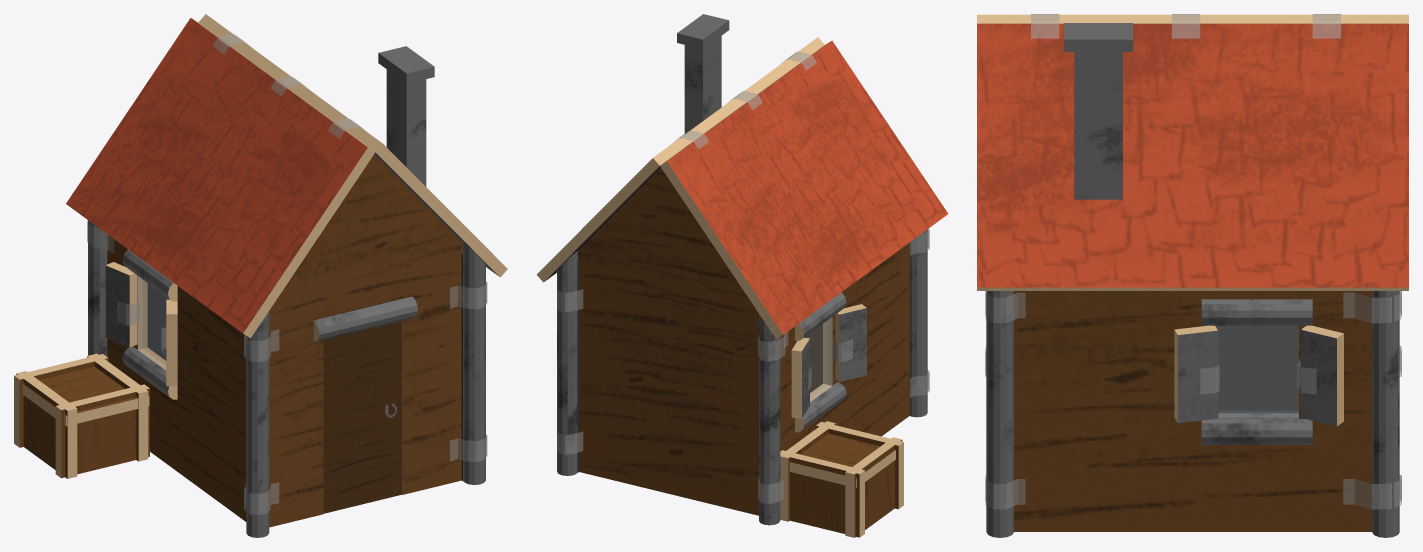
Rendered from Refinery.fbx.
The picture shows the model from 3 angles, left to right: view 1: azimuth 30°, elevation 25°; view 2: azimuth 150°, elevation 25°; view 3: azimuth 270°, elevation 25°; orthographic projection. The views are drawn at different scales.
Parts seen in each view (by area): view 1: Refinery_Model, Door_Refinery; view 2: Refinery_Model, Door_Refinery; view 3: Refinery_Model.
Part boxes in pixels (x1,y1,x2,y2): Refinery_Model: (14,14,507,537); Door_Refinery: (323,321,402,513); Refinery_Model: (536,14,948,537); Door_Refinery: (804,324,822,392); Refinery_Model: (977,14,1408,537).
Size of the model in its own units: 336 by 385 by 311.
5 materials, 2 textured.
